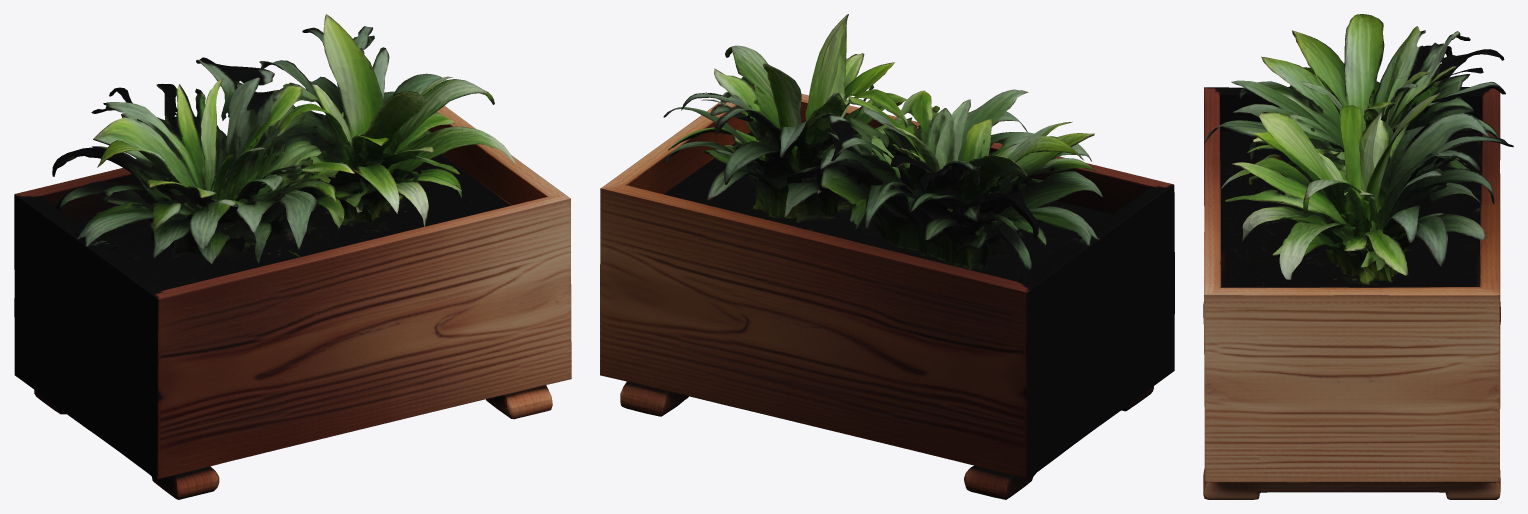
Rendered from wooden-planter-box-3d.jpeg.glb.
The picture shows the model from 3 angles, left to right: view 1: azimuth 30°, elevation 25°; view 2: azimuth 150°, elevation 25°; view 3: azimuth 270°, elevation 25°; orthographic projection. The views are drawn at different scales.
Visible parts, largest first — view 1: world; view 2: world; view 3: world.
Boxes of the visible parts, left/top/right/bottom form: world: left=14, top=14, right=571, bottom=499; world: left=600, top=14, right=1174, bottom=499; world: left=1203, top=14, right=1513, bottom=499.
Size of the model in its own units: 1 by 0.7857 by 0.6287.
1 material, 1 textured.
